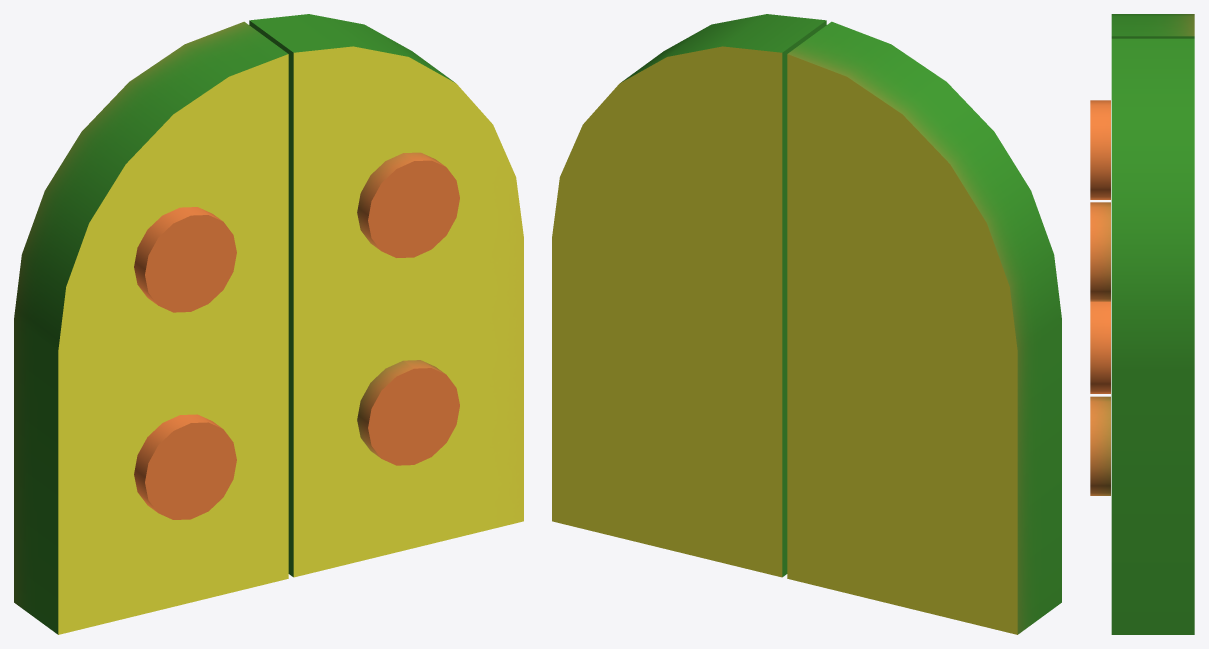
The model's file is door_wait_close_3.fbx.
The picture shows the model from 3 angles, left to right: view 1: azimuth 30°, elevation 25°; view 2: azimuth 150°, elevation 25°; view 3: azimuth 270°, elevation 25°; orthographic projection. The views are drawn at different scales.
Parts seen in each view (by area): view 1: boor_r, door_l; view 2: boor_r, door_l; view 3: door_l, boor_r.
Part boxes in pixels (x1,y1,x2,y2): boor_r: (14, 21, 288, 634); door_l: (249, 14, 523, 577); boor_r: (787, 21, 1061, 634); door_l: (552, 14, 826, 577); door_l: (1090, 38, 1194, 634); boor_r: (1090, 14, 1194, 393).
Bounding box in the file's own units: 182 × 196 × 37.7.
2 materials, 2 textured.
